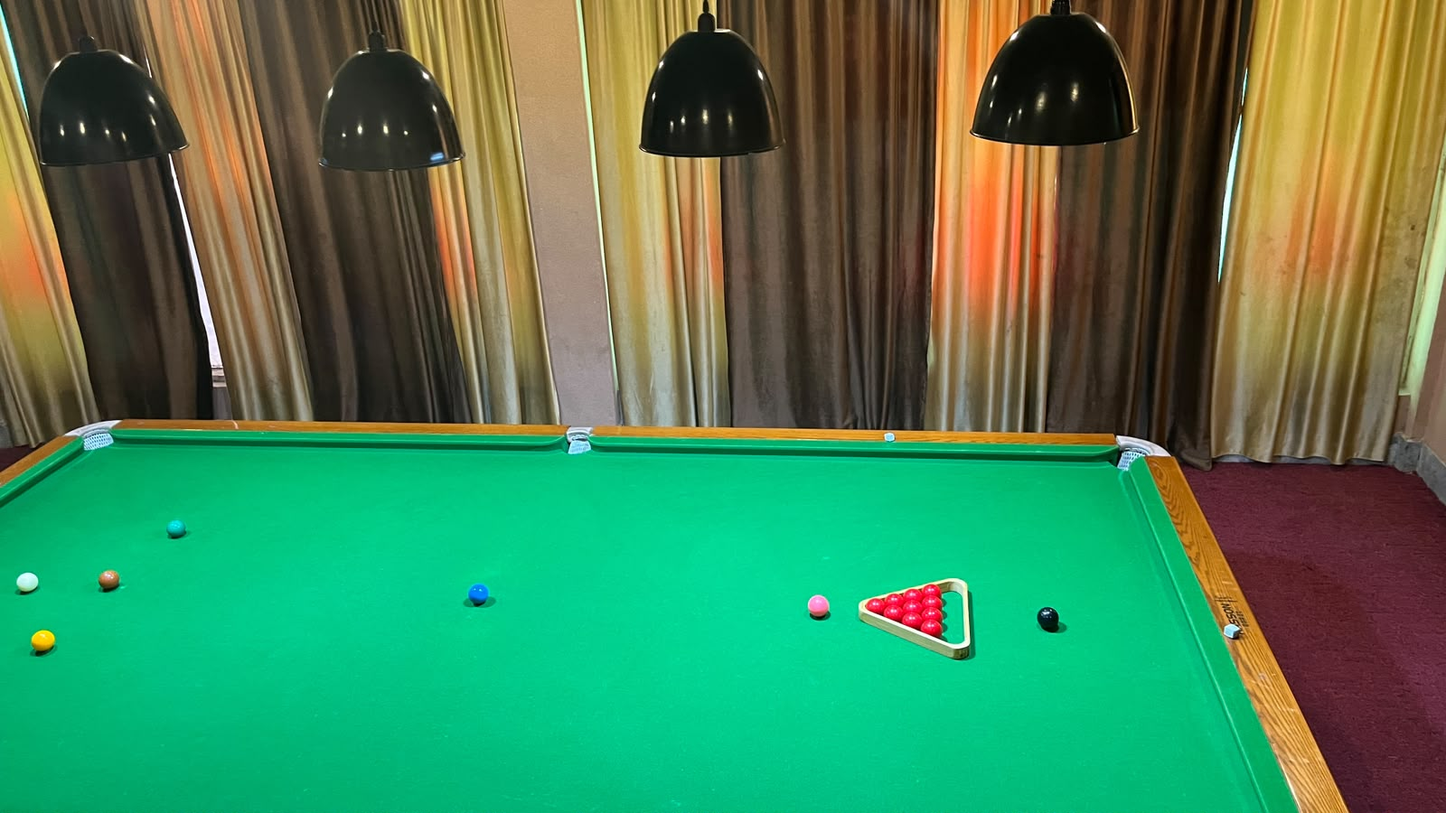Snooker: (851, 548, 986, 666)
